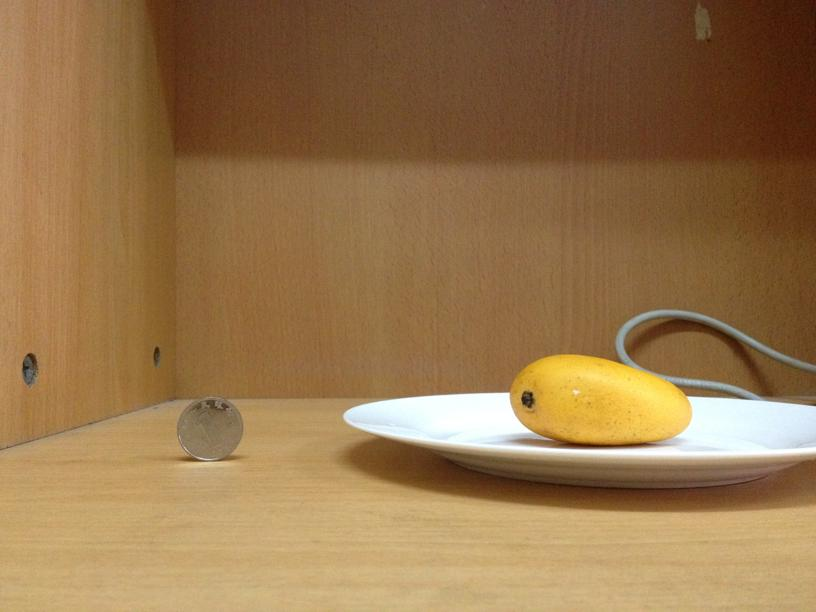coin: (176, 396, 243, 461)
mango: (511, 355, 692, 445)
